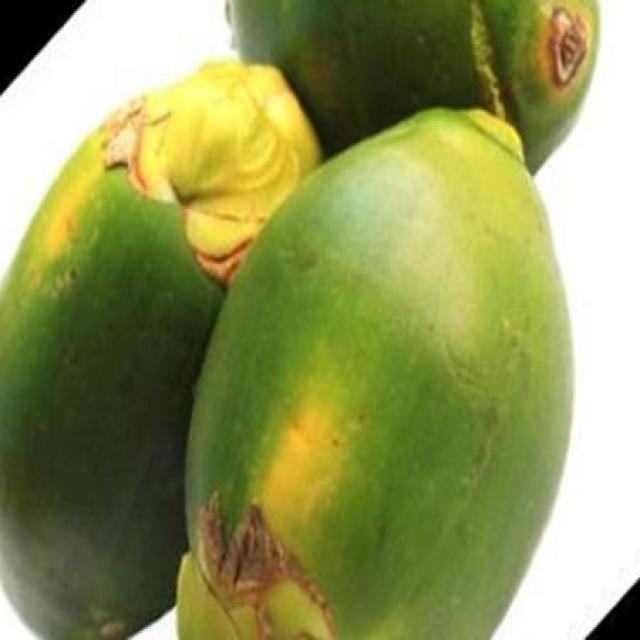good: (172, 110, 577, 638), (0, 59, 321, 638), (230, 0, 599, 174)
